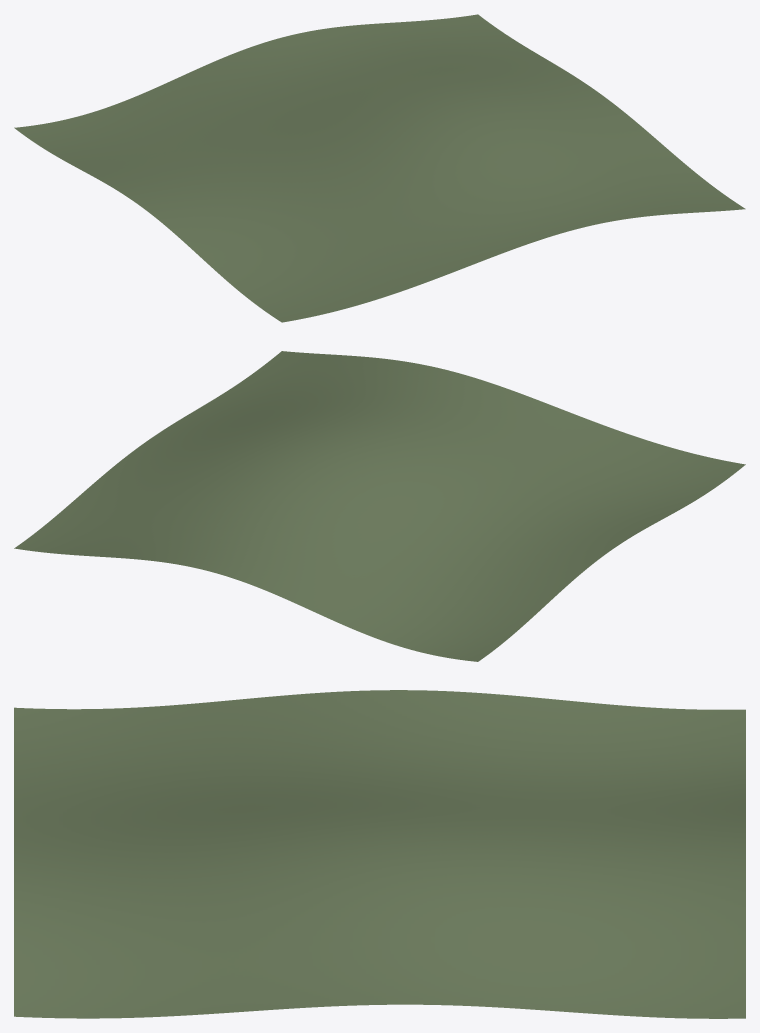
Rendered from pine_needle_ridge.obj.
3 views of the same model, one above another, from view 1: azimuth 30°, elevation 25°; view 2: azimuth 150°, elevation 25°; view 3: azimuth 270°, elevation 25° (orthographic). The views are drawn at different scales.
Size of the model in its own units: 179 by 15.59 by 179.
